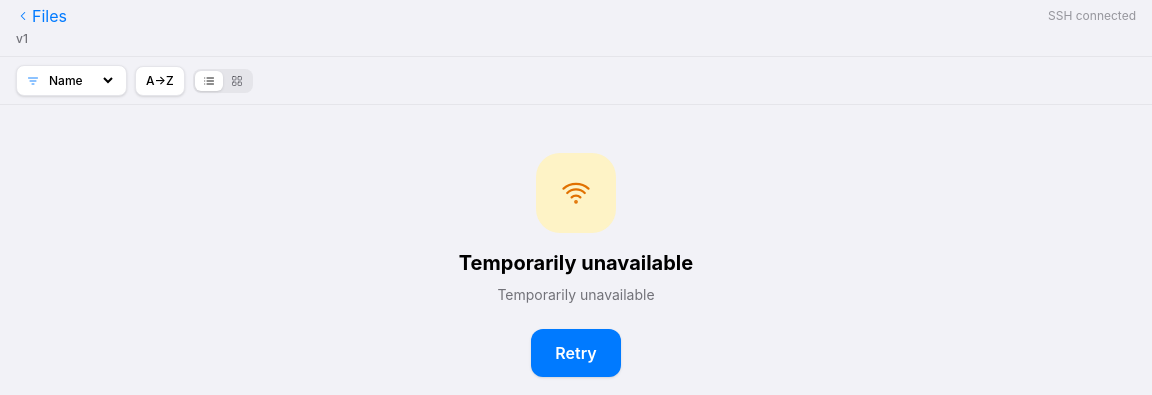
Scenario: browse retry integration › re-issues the listing when the retry action is used
Expected: the message "Temporarily unavailable Temporarily unavailable Retry" is shown, [459,153,693,377]
Click the button with test id "action-retry" at point(576, 353), box [531,329,621,377]
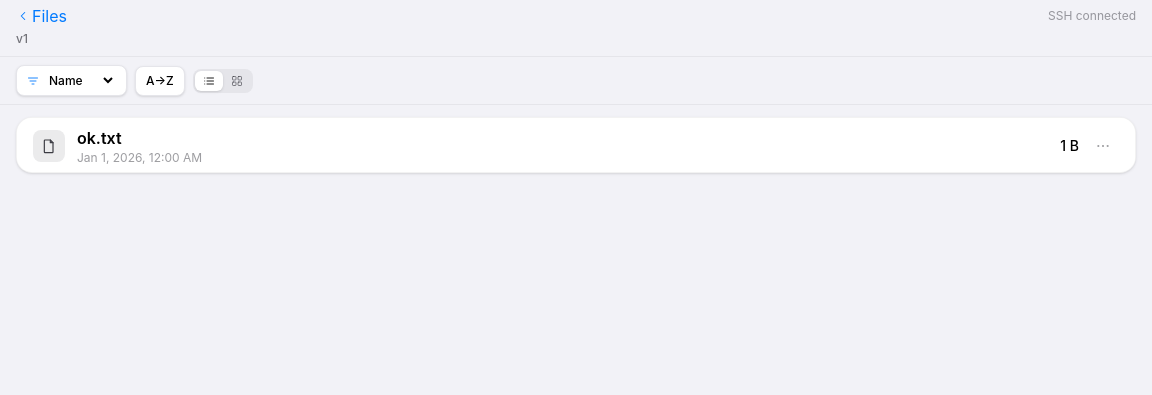
Expected: the element with test id "entry-0" shows "ok.txt", [33,126,1052,166]
